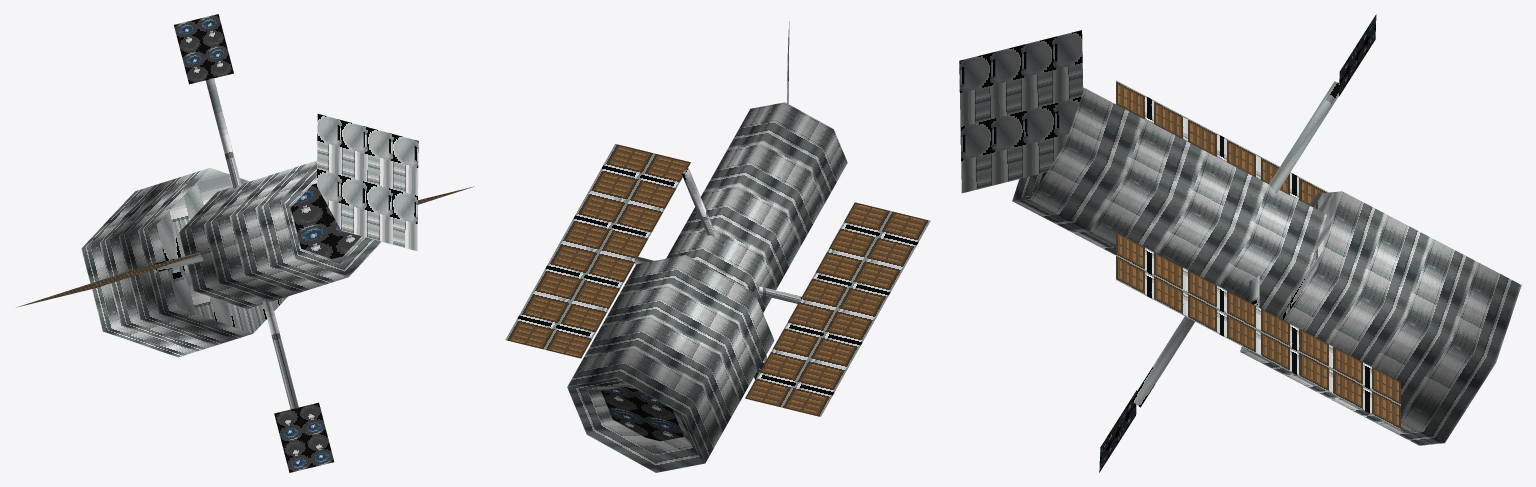
The model's file is 3282IMIG05_08.gltf.
3 views of the same model, side by side, from view 1: azimuth 30°, elevation 25°; view 2: azimuth 150°, elevation 25°; view 3: azimuth 270°, elevation 25° (orthographic). The views are drawn at different scales.
Parts seen in each view (by area): view 1: 3282IMIG05_08; view 2: 3282IMIG05_08; view 3: 3282IMIG05_08.
Boxes of the visible parts, x1,y1,x2,y2 form: 3282IMIG05_08: (16,14,474,472); 3282IMIG05_08: (505,21,930,472); 3282IMIG05_08: (959,14,1521,472).
Size of the model in its own units: 0.8916 by 0.9033 by 1.06.
4 materials, 4 textured.
